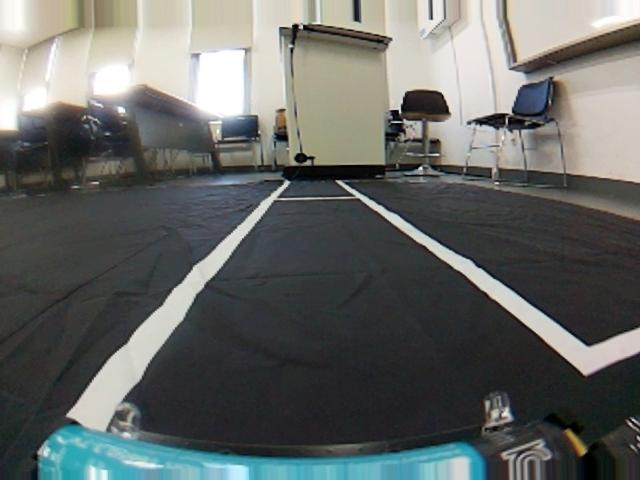straight: (70, 200, 611, 450)
